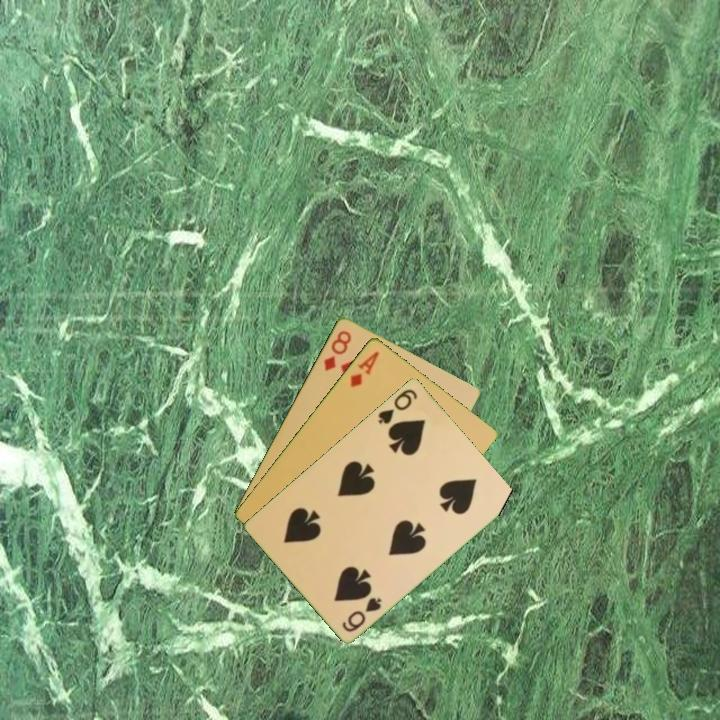6s: (338, 593, 385, 635), (374, 385, 420, 427)
8d: (320, 326, 354, 374)
Ad: (346, 347, 382, 390)
